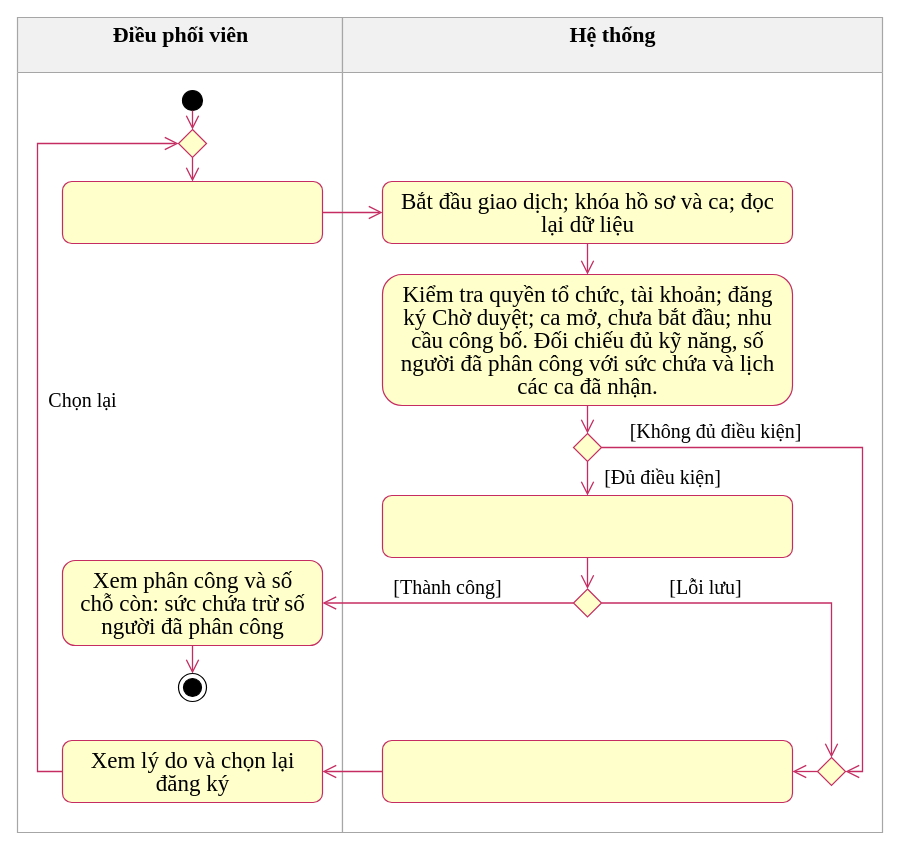
The diagram is 901 pixels wide and 851 high, and some of its shapes have lost their labels. The centre of each missing label's shape, as x and y in pixels:
"Chọn đăng ký chờ duyệt và nhấn Phân công" goes at pixel 192 212.
"Hoàn tác giao dịch; giữ đăng ký hiện tại; trả lý do" goes at pixel 587 771.
"Lưu Đã phân công, người và thời điểm; xác nhận giao dịch" goes at pixel 587 526.
